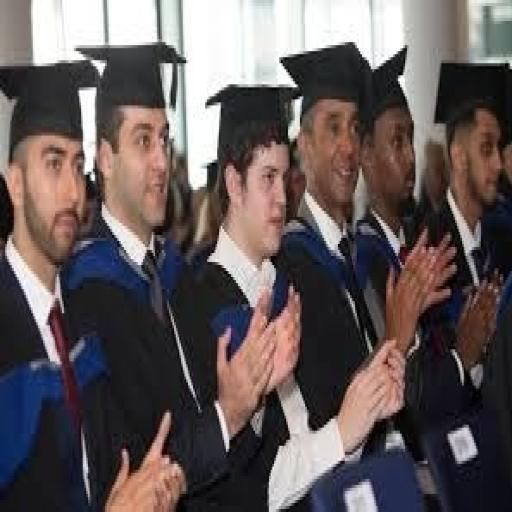clapping: (2, 33, 508, 506)
